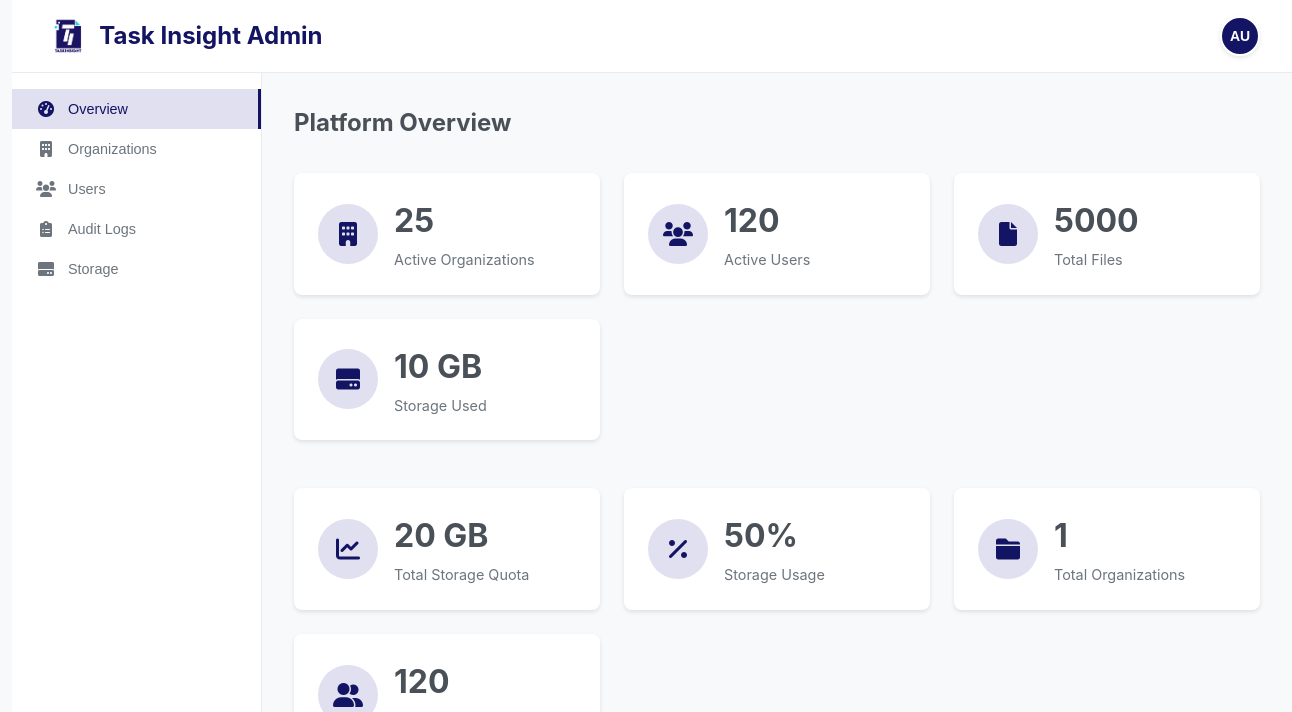
Test: AdminPanel Component › displays admin user information
This screenshot has width=1292, height=712.
Click the button "AU" at (1240, 36), box [1220,16,1260,56]
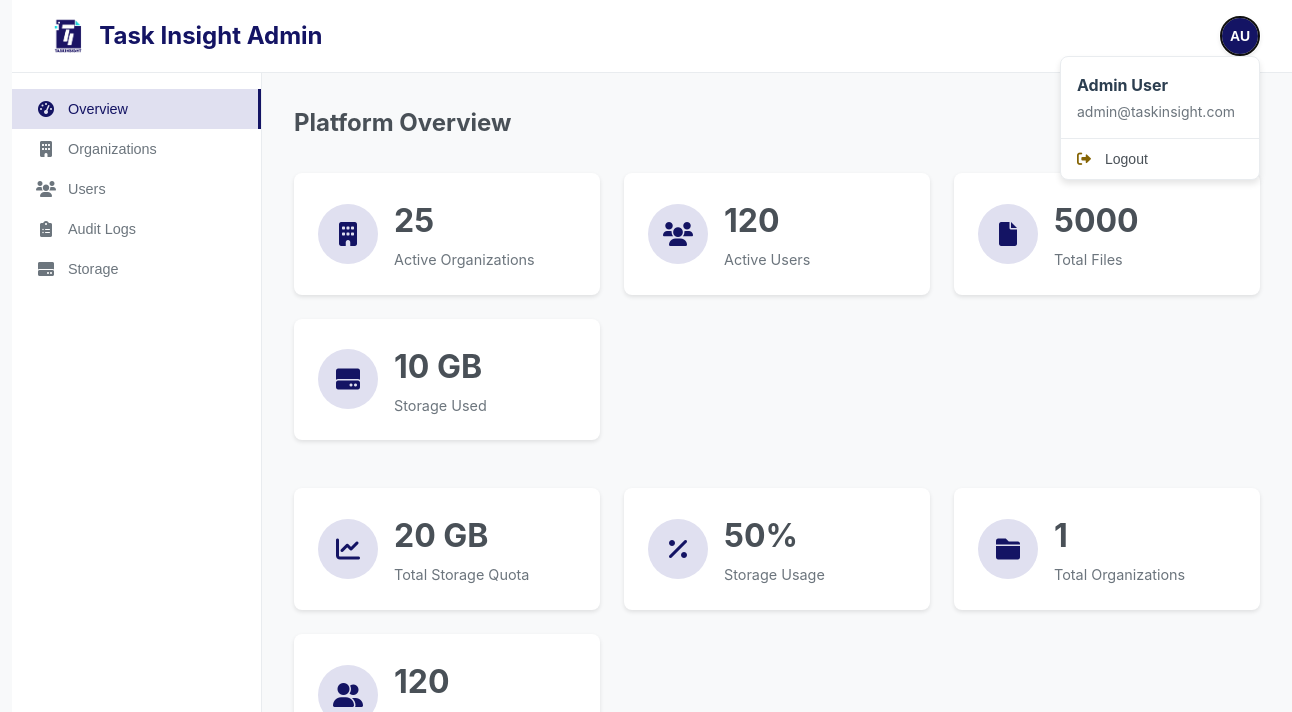
Now the heading "Admin User" is shown, box [1077,75,1168,95]
Now the text "admin@taskinsight.com" is shown, box [1077,101,1243,122]
